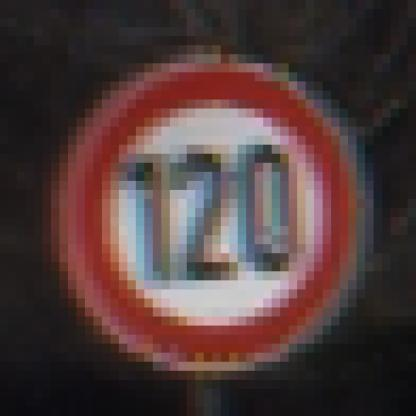Speed Limit -120-: (78, 80, 372, 336)
